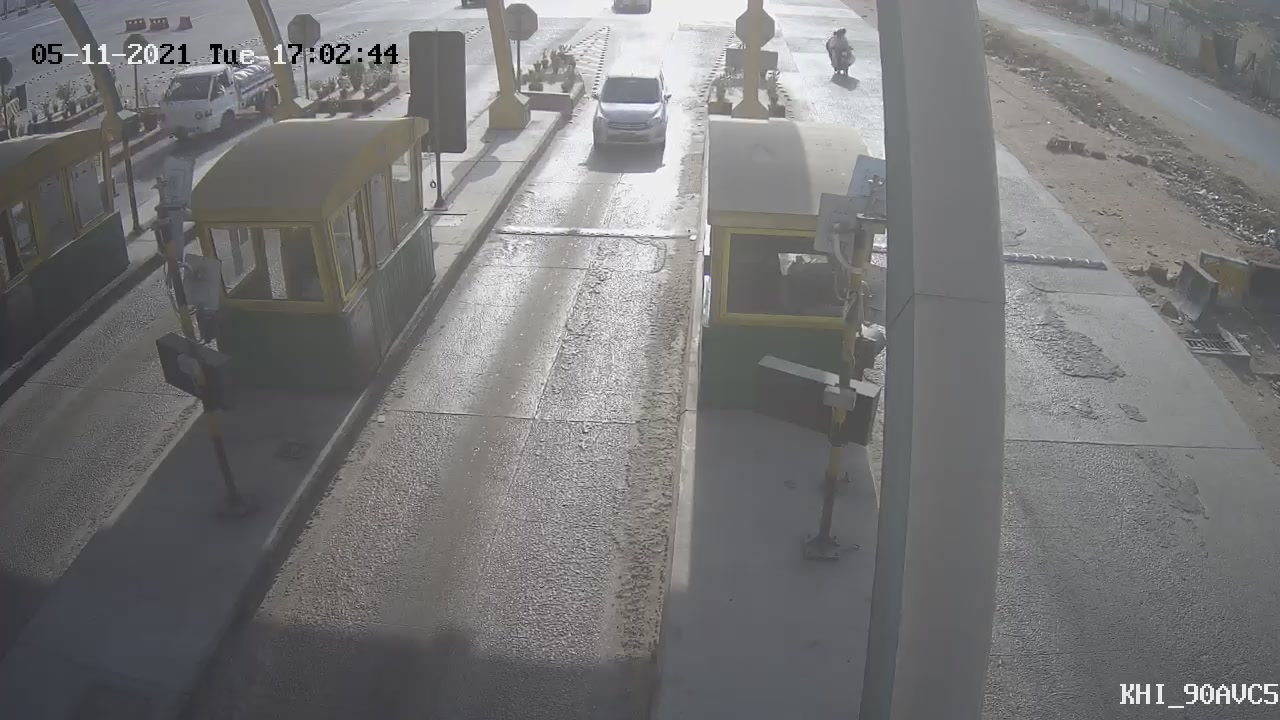F1: (570, 51, 689, 179)
